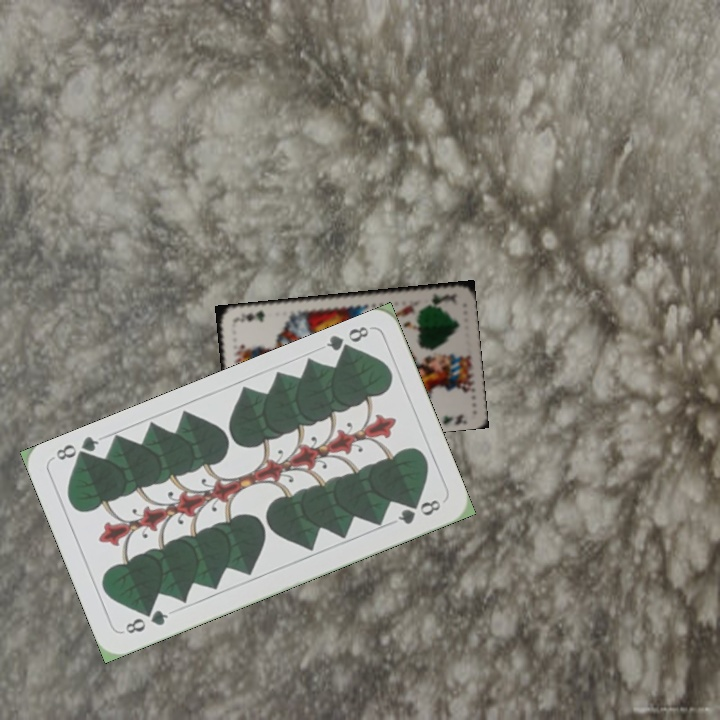G8: (322, 322, 372, 359), (121, 605, 171, 637)
GK: (421, 289, 456, 308)
